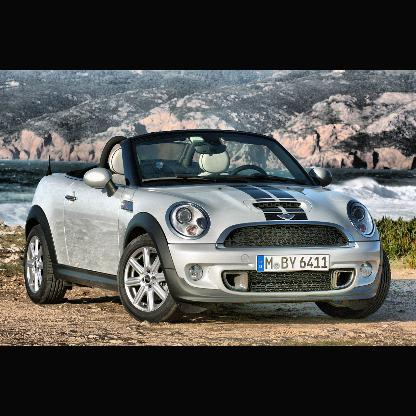MINI Cooper Roadster Convertible 2012: (24, 131, 392, 324)
